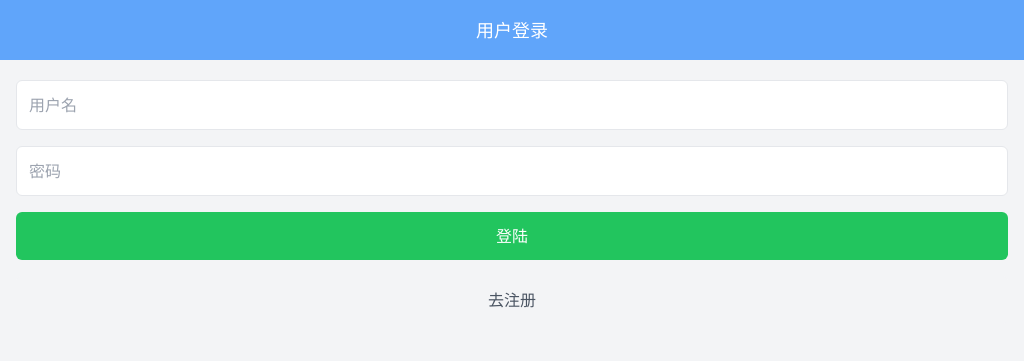
Test: Login.vue › 应该处理网络错误
Type "testuser" into the field with placeholder "用户名".
click(512, 105); type("testuser")  # box [16,80,1008,130]
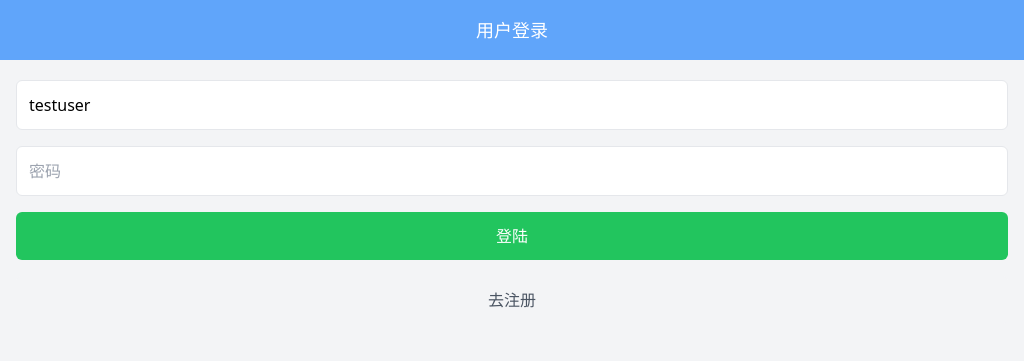
Type "testpass" into the password field with placeholder "密码".
click(512, 171); type("testpass")  # box [16,146,1008,196]
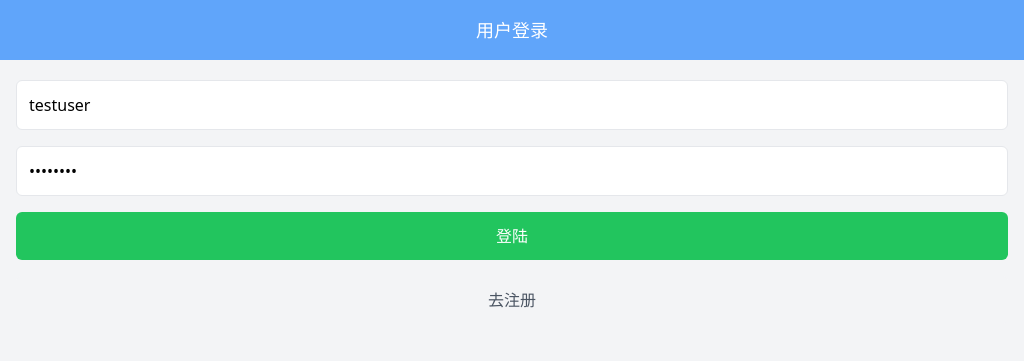
Click the button "登陆".
click(512, 236)  # box [16,212,1008,260]
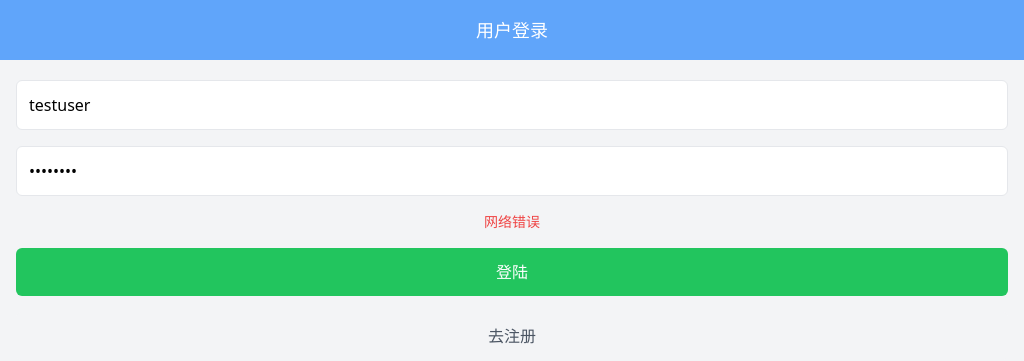
Now the text "网络错误" is shown, box [484,212,540,231]
